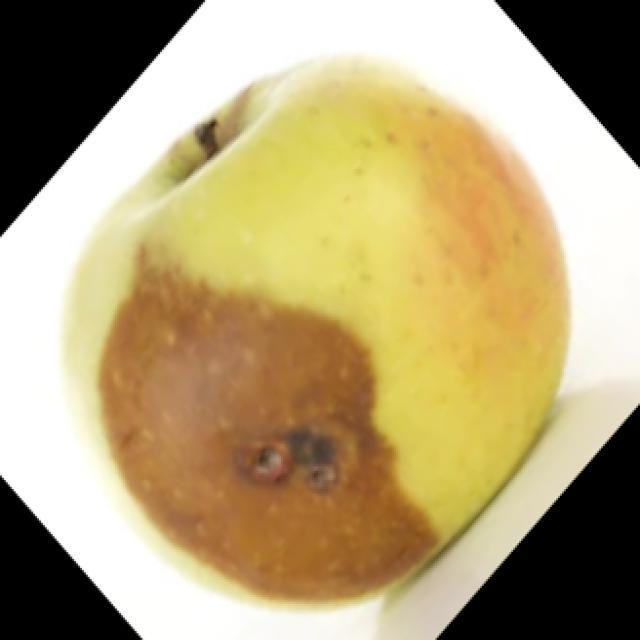Rotten: (77, 79, 570, 604)
